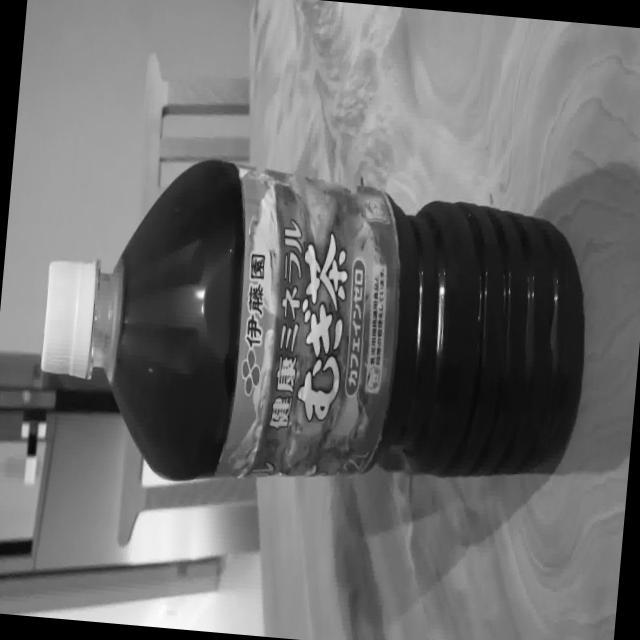good: (29, 138, 598, 514)
